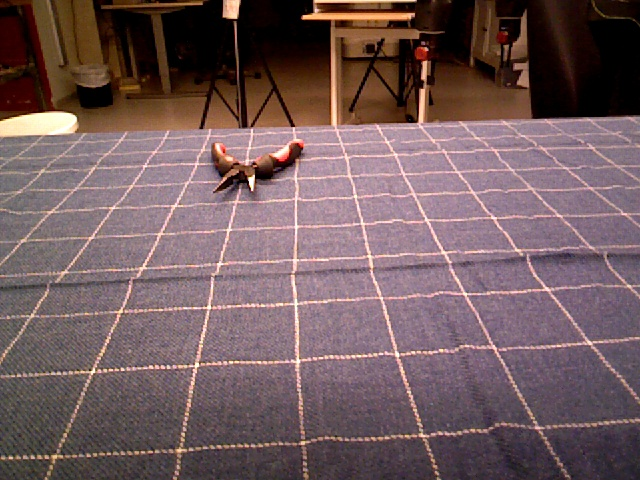plier1: (210, 140, 302, 195)
